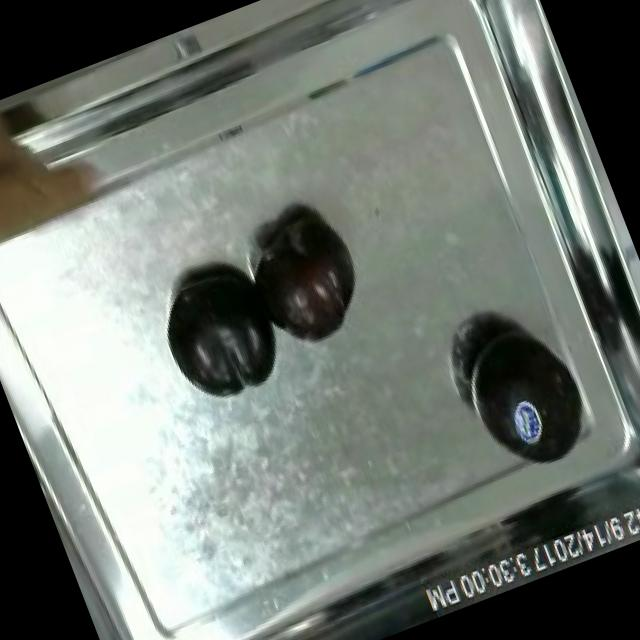Fruit: (441, 302, 609, 491), (142, 246, 300, 422), (230, 198, 384, 362), (0, 85, 93, 282)
